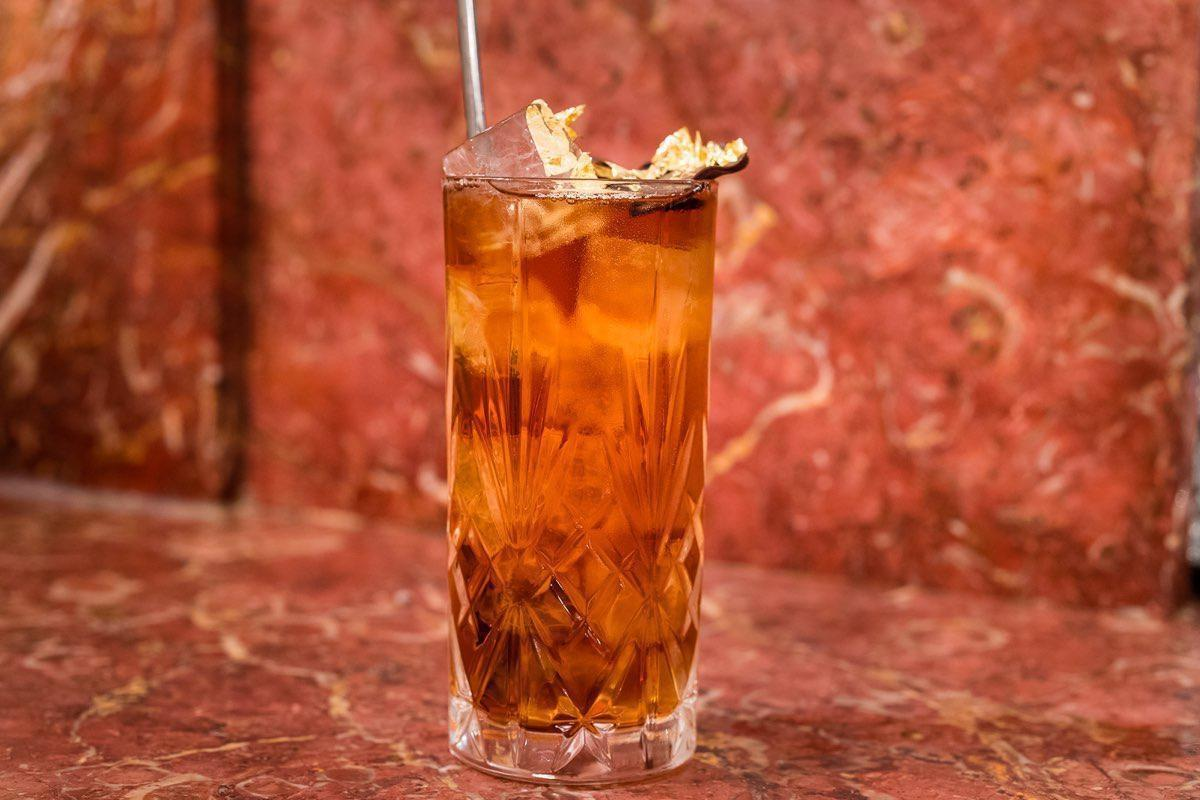glass-normal: (439, 163, 720, 788)
